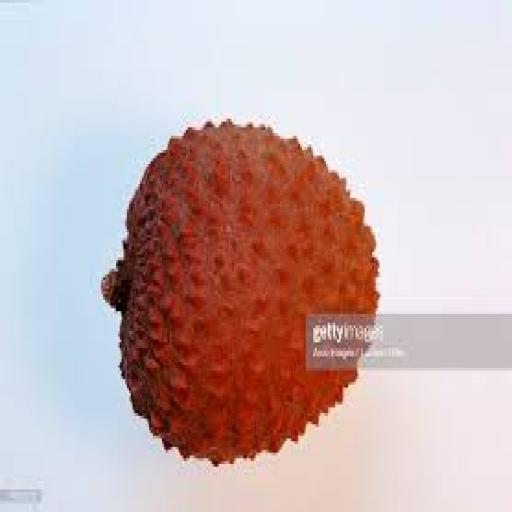lychee: (99, 113, 385, 464)
